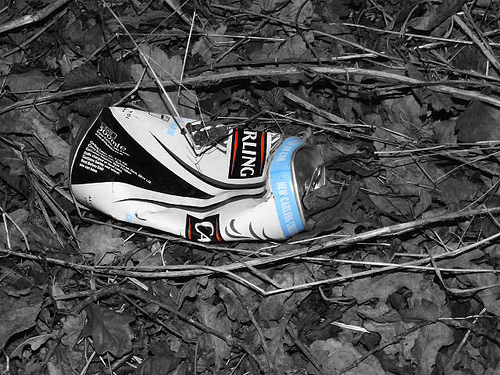litter: (67, 104, 326, 245)
